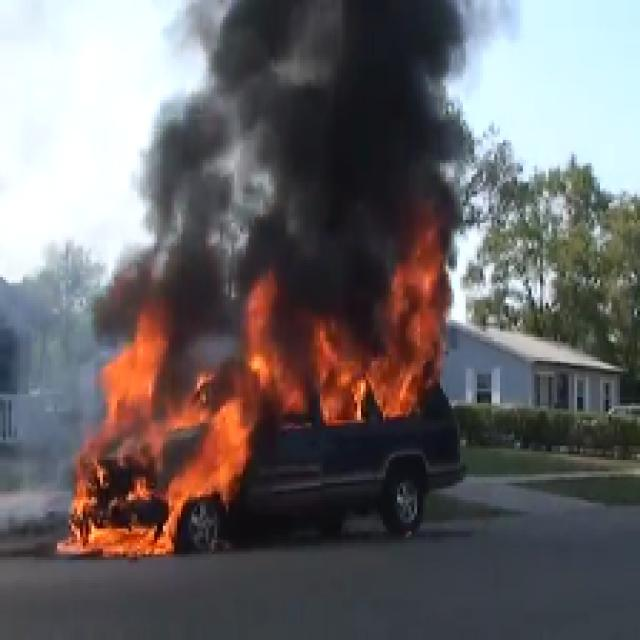fire: (113, 329, 439, 440), (83, 437, 241, 552)
smoke: (202, 1, 423, 290)
